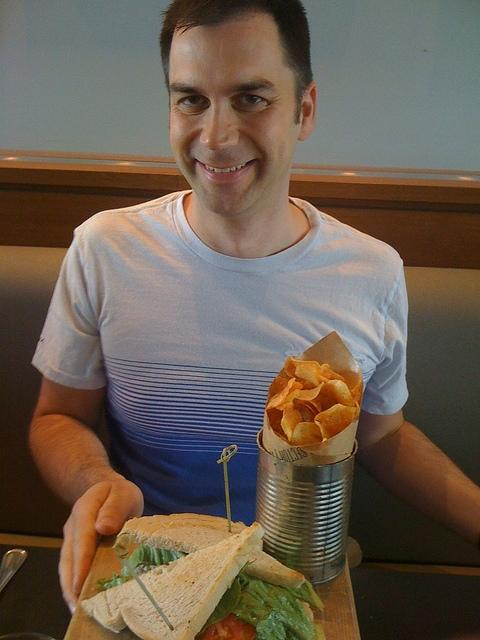lettuce: (236, 558, 316, 638), (195, 572, 249, 638), (120, 544, 186, 577), (105, 576, 130, 590)
tomato: (195, 613, 256, 640)
